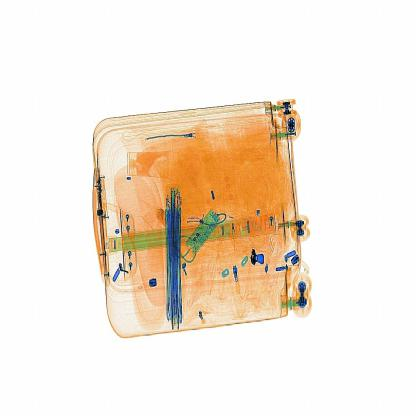wrench: (245, 240, 270, 273)
